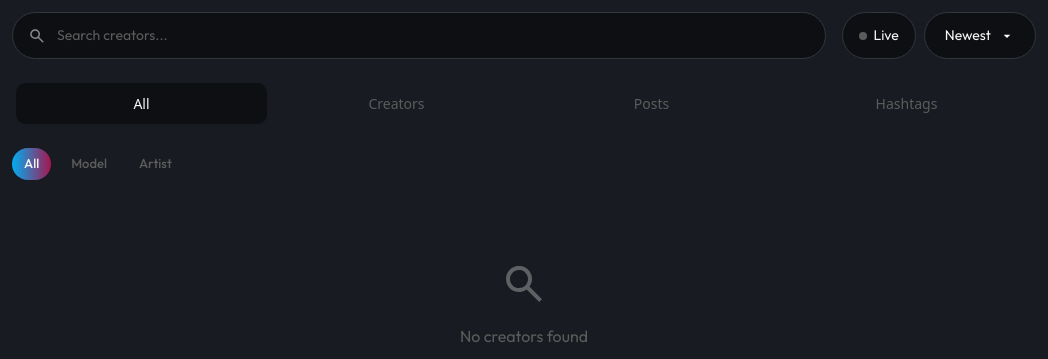
Test case: Explore page › should switch tabs on click
Click the button "Posts".
click(652, 104)  # box [526,83,777,124]
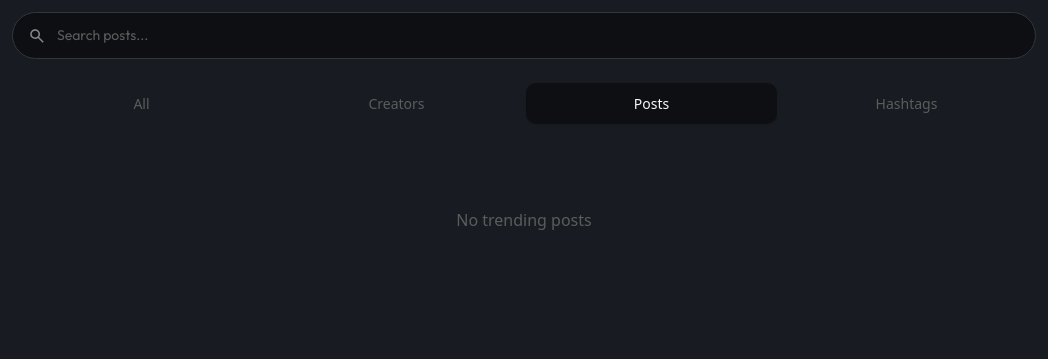
Check: the field with placeholder "Search posts..." is shown, box [12,12,1036,59]
